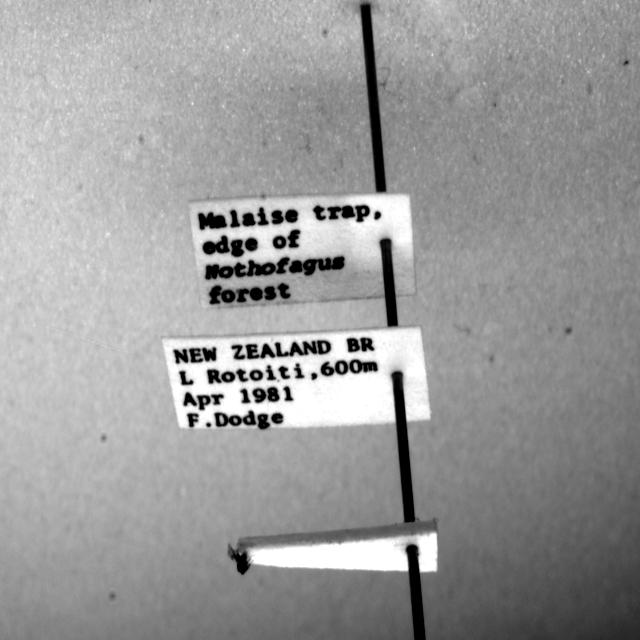typed_label: (162, 326, 430, 429), (189, 193, 416, 308)
